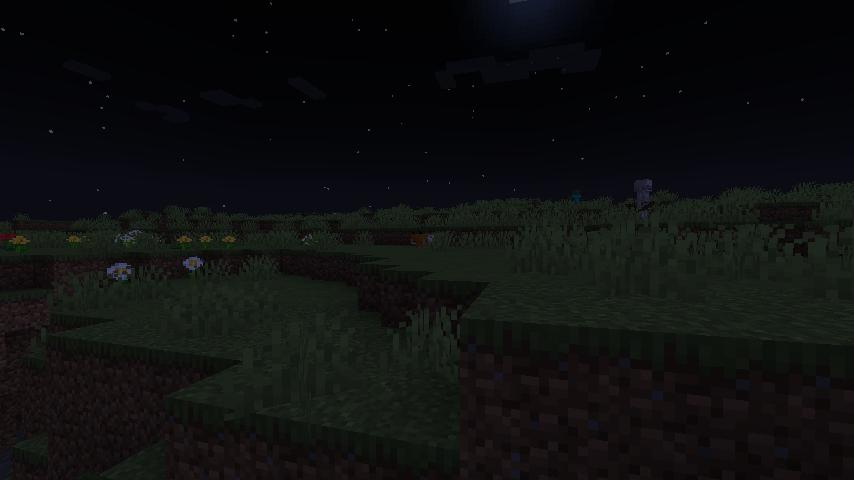fox: (410, 231, 438, 252)
skeleton: (624, 178, 658, 225)
zombie: (567, 188, 582, 207)
